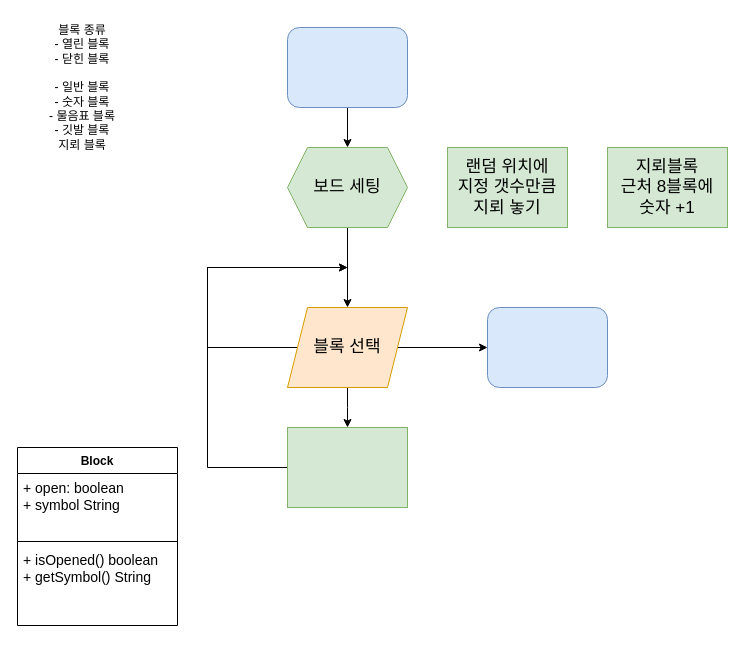
This 745x645 diagram has some shape labels left out. Each missing label, with the box of its shape:
게임 시작: (286, 26, 408, 108)
게임 종료 (패배): (486, 306, 608, 388)
블록 오픈: (286, 426, 408, 508)
